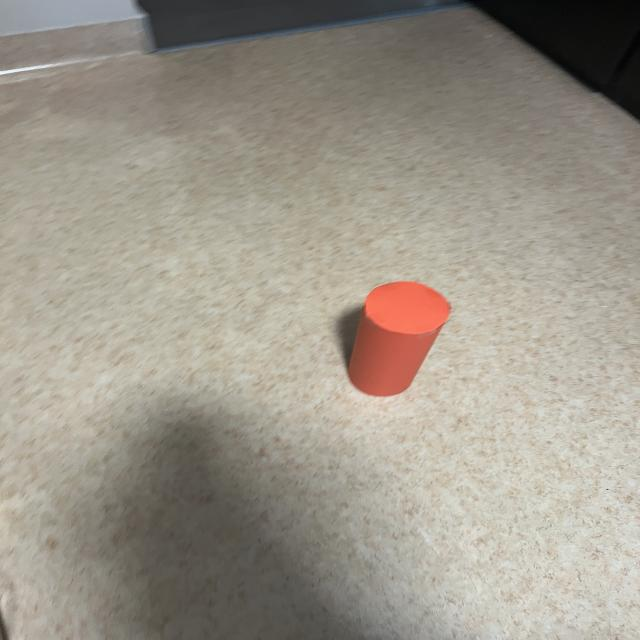przeszkoda: (348, 282, 450, 396)
